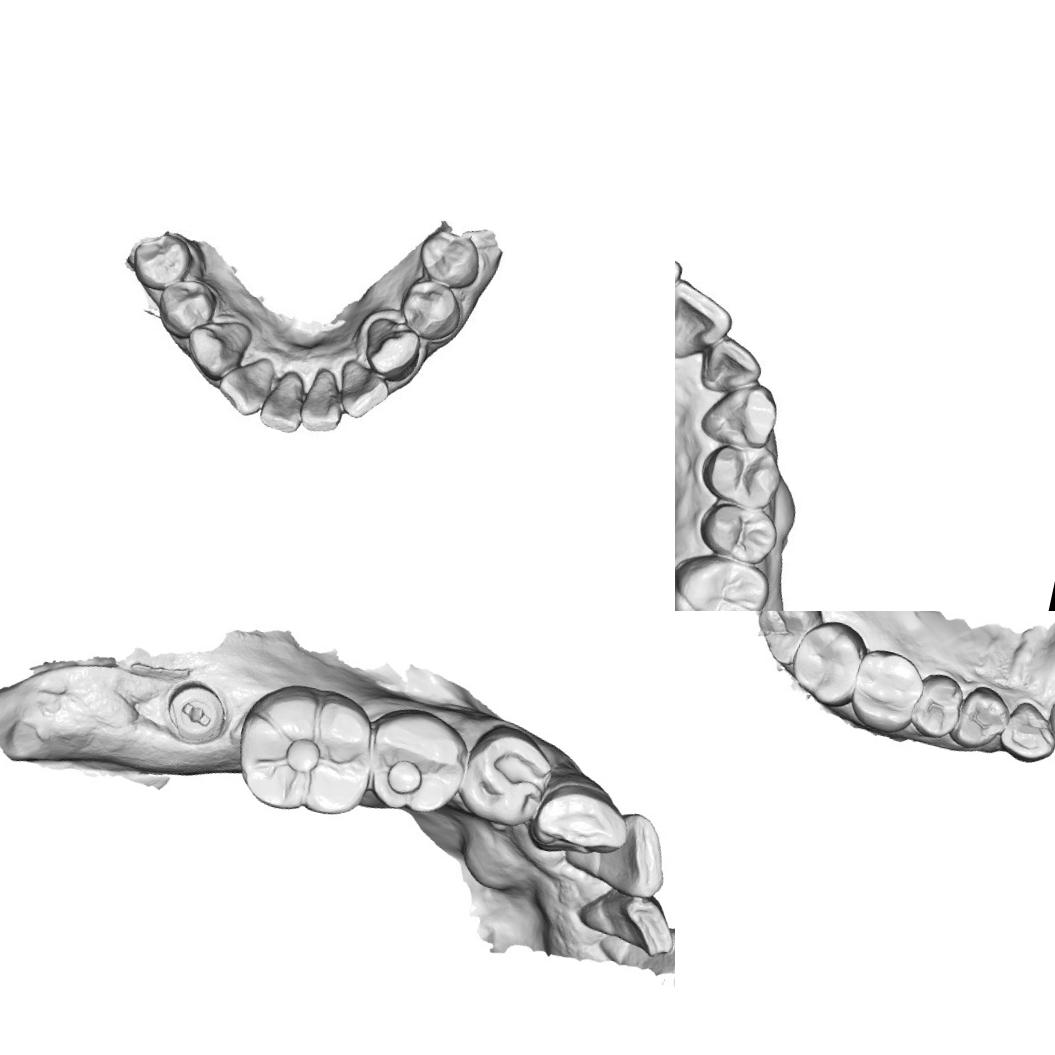canine: (526, 759, 642, 869), (696, 370, 784, 458), (180, 312, 257, 386), (358, 315, 431, 387), (995, 696, 1055, 769)
implant_minus: (158, 674, 234, 752)
incisor: (555, 798, 675, 905), (571, 877, 675, 964), (690, 328, 773, 404), (675, 275, 737, 367), (211, 350, 279, 423), (294, 368, 357, 442), (255, 366, 312, 436), (334, 360, 394, 426), (1040, 695, 1055, 763)
molar: (226, 672, 387, 828), (782, 612, 870, 714), (844, 643, 930, 741), (675, 541, 777, 611), (747, 611, 829, 673)
premolar: (359, 698, 480, 824), (454, 716, 562, 836), (690, 487, 786, 569), (694, 438, 786, 515), (125, 219, 200, 296), (410, 222, 486, 293), (946, 681, 1014, 758), (396, 274, 466, 345), (907, 668, 966, 744), (156, 274, 222, 340)
